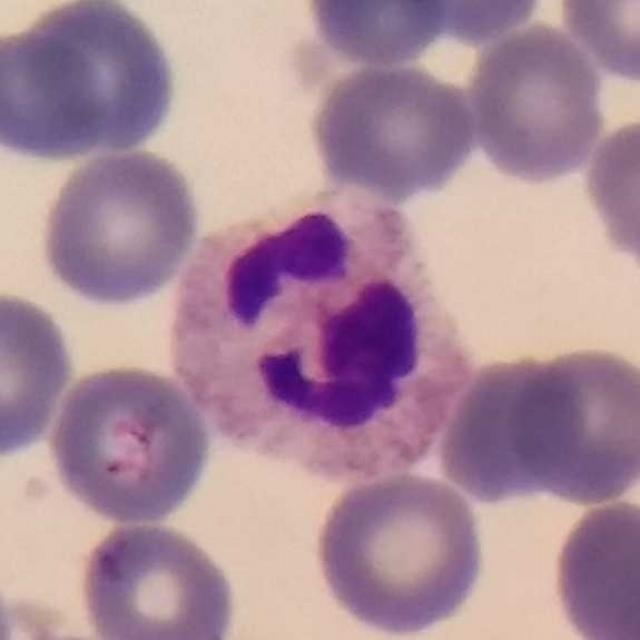Neutrophil: (150, 180, 476, 488)
RBC: (308, 468, 491, 639), (43, 360, 216, 528), (34, 145, 205, 309), (12, 0, 185, 161), (305, 59, 482, 200), (464, 19, 609, 186), (433, 350, 578, 511), (507, 340, 639, 508), (74, 517, 241, 640), (0, 16, 114, 168), (0, 286, 77, 462), (546, 495, 640, 639), (300, 0, 451, 70), (579, 112, 640, 280), (554, 0, 640, 86), (392, 0, 550, 42), (1, 583, 105, 640)
